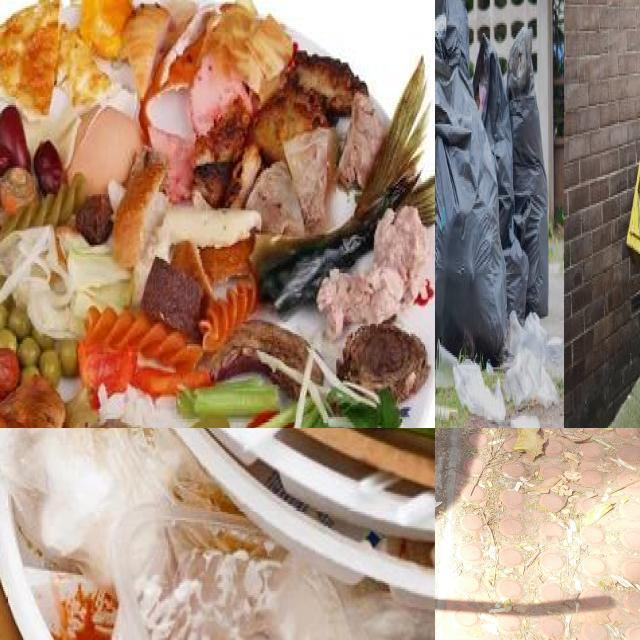Disposable: (175, 428, 435, 608), (207, 428, 435, 541), (0, 486, 54, 640)
Garbage: (0, 0, 435, 428), (0, 428, 435, 640), (435, 0, 548, 363)
Plastic_Bag: (435, 69, 507, 360), (473, 36, 528, 324), (507, 25, 548, 316), (435, 0, 471, 89)
contaminated_waste: (112, 507, 366, 640), (301, 428, 435, 489)
